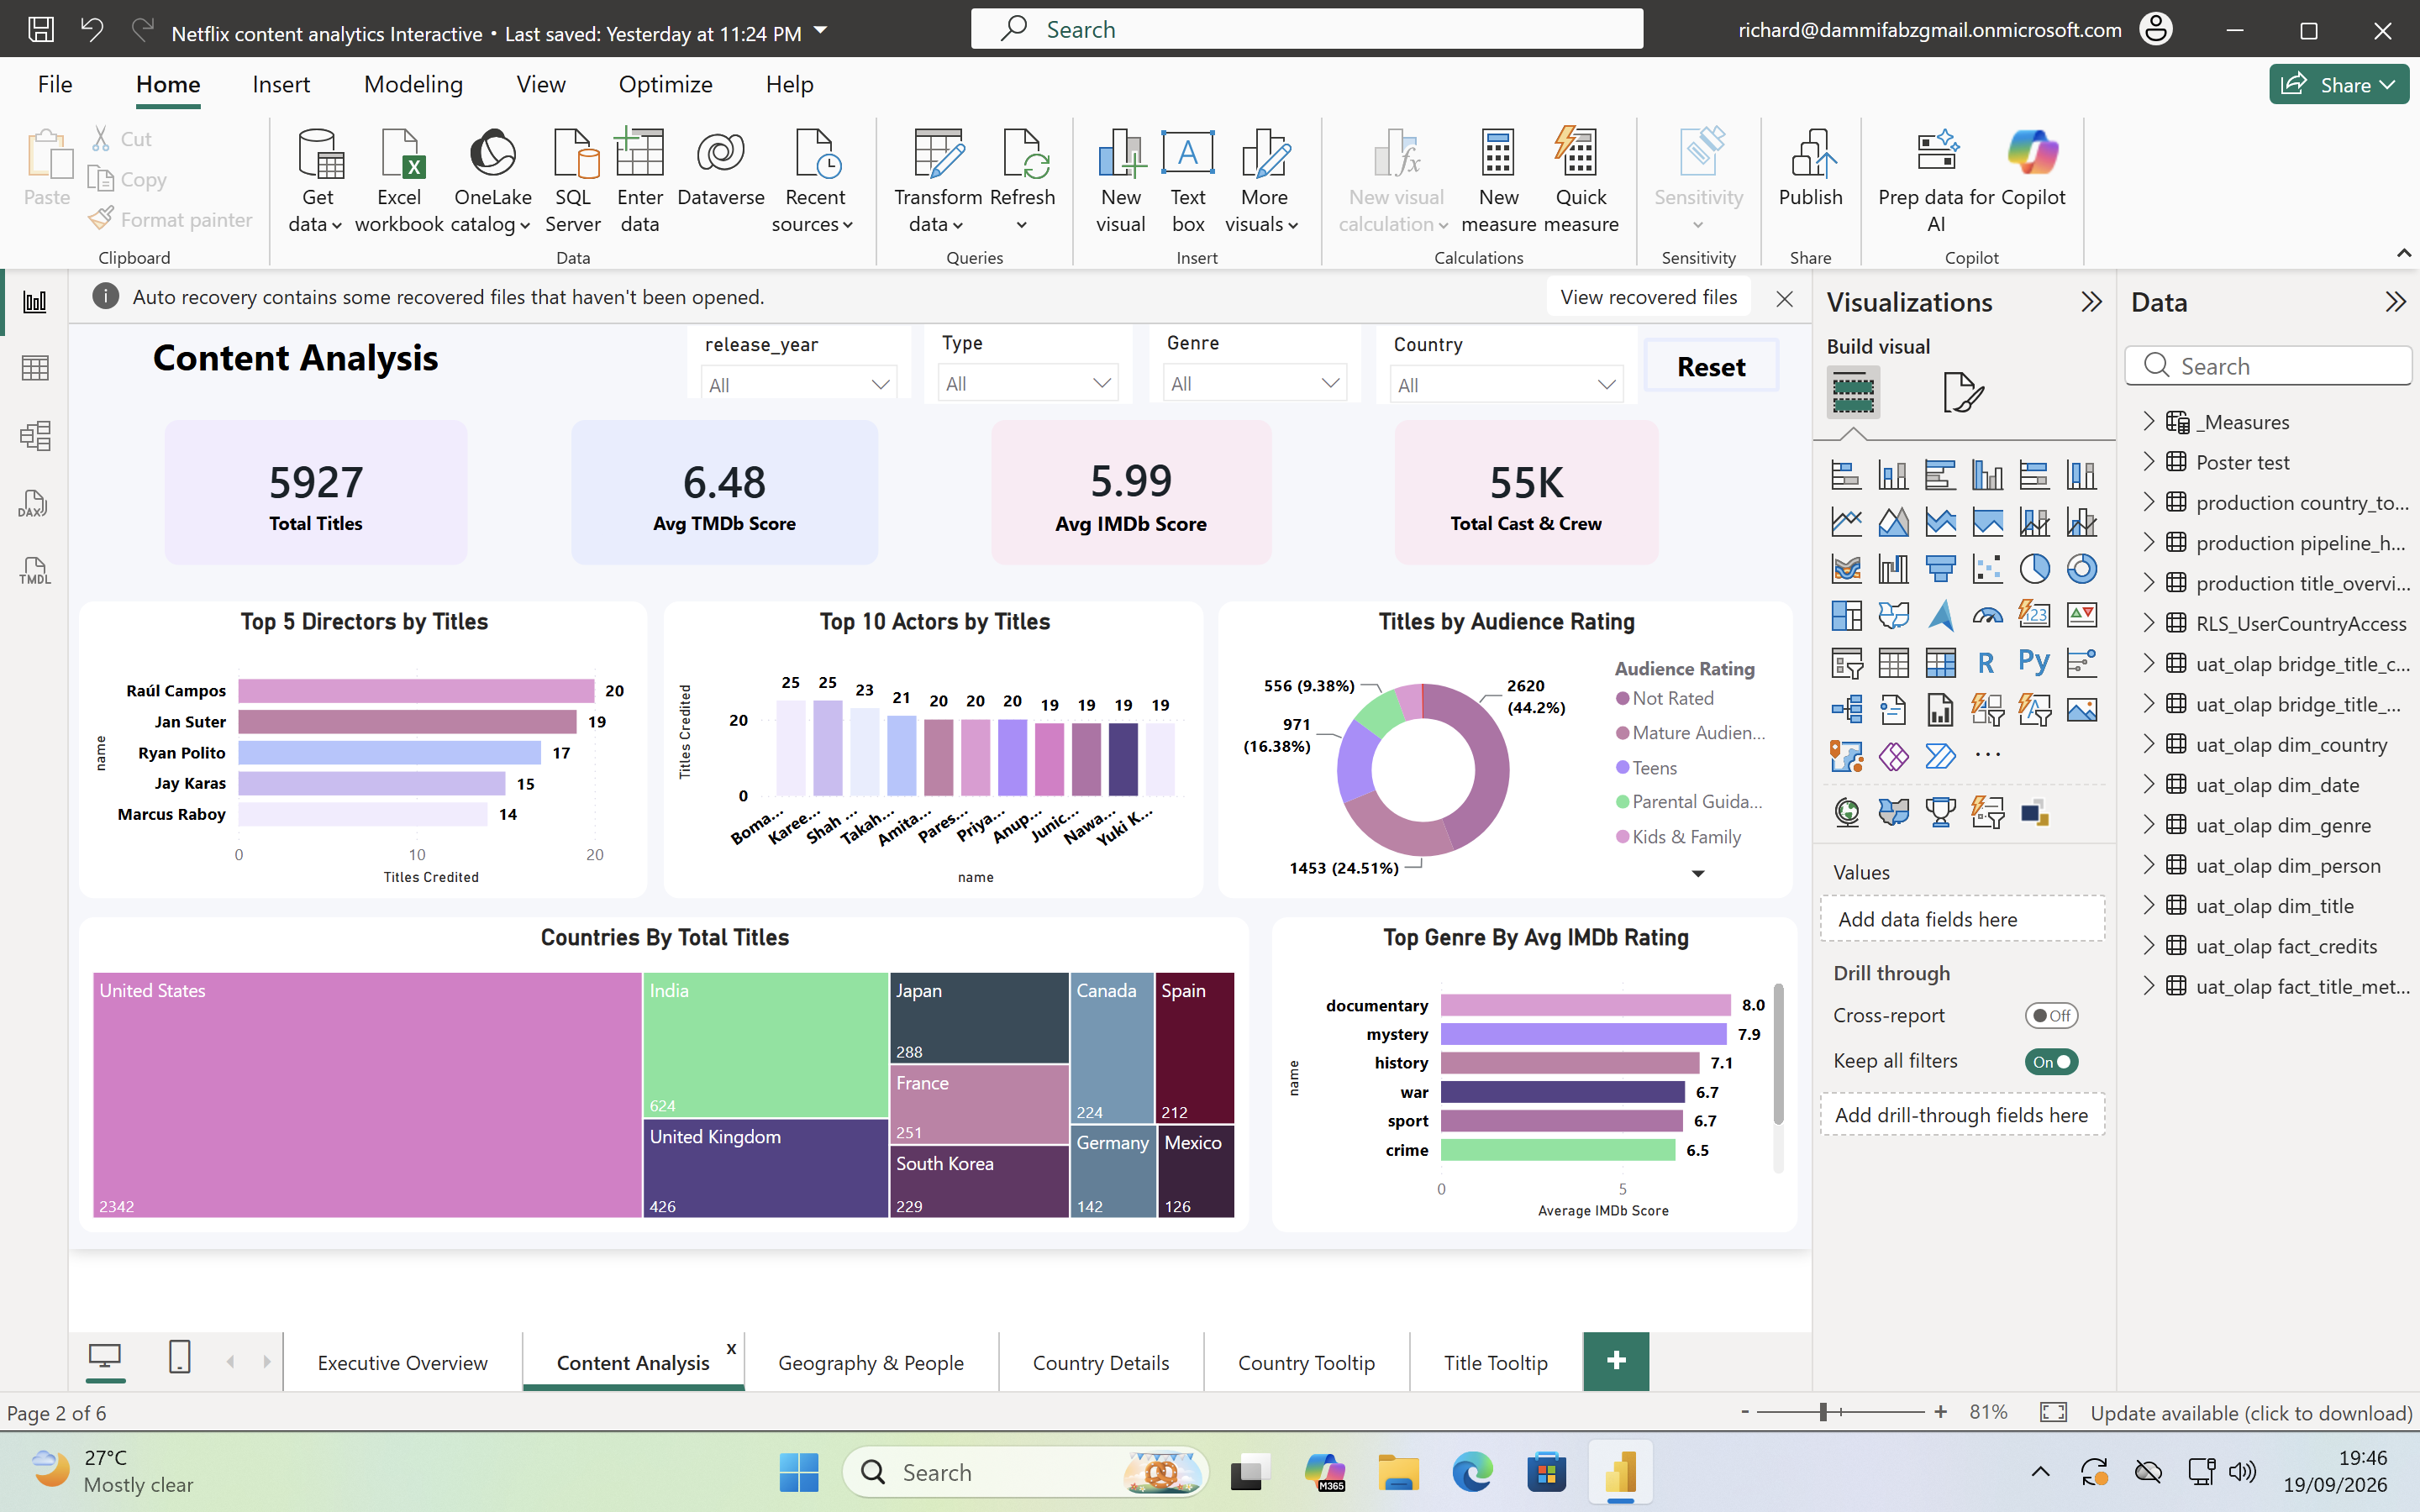

What the dashboard file says about the page in this screenshot:
{"tool":"powerbi","page":{"name":"Content Analysis","canvas":[1280,720],"ordinal":1},"visuals":[{"type":"textbox","box":[57.1,40.6,673.3,56.7],"z":0},{"type":"cardVisual","fields":{"Data":["_Measures.Average IMDb Score"]},"box":[677.6,111.2,205.8,106.7],"z":1000},{"type":"cardVisual","fields":{"Data":["_Measures.Average TMDb Scores"]},"box":[369.6,111.2,225.4,106.7],"z":2000},{"type":"cardVisual","fields":{"Data":["_Measures.Total Titles"]},"box":[70.6,111.2,222.3,106.7],"z":3000},{"type":"slicer","fields":{"Values":["uat_olap dim_title.release_year"]},"box":[453.7,42.1,164.7,52.9],"z":4000},{"type":"slicer","fields":{"Values":["uat_olap dim_title.type"]},"box":[628,40.6,153.2,58.6],"z":5000},{"type":"slicer","title":"hh","fields":{"Values":["uat_olap dim_genre.name"]},"box":[793.2,40.6,155.7,57.4],"z":6000},{"type":"slicer","fields":{"Values":["uat_olap dim_country.name"]},"box":[960,42.1,191.9,57.4],"z":7000},{"type":"actionButton","box":[1156.8,51.1,100,40],"z":8000},{"type":"cardVisual","fields":{"Data":["_Measures.Total Cast & Crew"]},"box":[973.5,111.2,193.8,106.7],"z":9000},{"type":"treemap","title":"Countries By Total Titles","fields":{"Group":["uat_olap dim_country.country_name"],"Values":["_Measures.Titile by Country"]},"box":[7.5,476.2,859.3,231.4],"z":10000},{"type":"clusteredBarChart","title":"Top 5 Directors by Titles","fields":{"Category":["uat_olap dim_person.name"],"Y":["_Measures.Titles Credited"]},"box":[7.5,244.9,417.7,217.8],"z":11000},{"type":"clusteredColumnChart","title":"Top 10 Actors by Titles","fields":{"Category":["uat_olap dim_person.name"],"Y":["_Measures.Titles Credited"]},"box":[437.2,244.9,396.6,217.8],"z":12000},{"type":"donutChart","title":"Titles by Audience Rating","fields":{"Category":["uat_olap dim_title.Audience Rating"],"Y":["_Measures.Total Titles"]},"box":[844.3,244.9,422.2,217.8],"z":13000},{"type":"barChart","title":"Top  Genre By Avg IMDb Rating","fields":{"Category":["uat_olap dim_genre.name"],"Y":["_Measures.Average IMDb Score"]},"box":[883.4,476.2,386.1,231.4],"z":14000}]}

Visuals, with their boxes on the page's 1280x720 design canvas (x1, y1, x2, y2). These are canvas units, not pixel positions in the 2420x1512 screenshot, which may show the page scaled, cropped or inside an application window:
textbox: 57, 41, 730, 97
cardVisual - _Measures.Average IMDb Score: 678, 111, 883, 218
cardVisual - _Measures.Average TMDb Scores: 370, 111, 595, 218
cardVisual - _Measures.Total Titles: 71, 111, 293, 218
slicer - uat_olap dim_title.release_year: 454, 42, 618, 95
slicer - uat_olap dim_title.type: 628, 41, 781, 99
"hh" slicer: 793, 41, 949, 98
slicer - uat_olap dim_country.name: 960, 42, 1152, 100
actionButton: 1157, 51, 1257, 91
cardVisual - _Measures.Total Cast & Crew: 974, 111, 1167, 218
"Countries By Total Titles" treemap: 8, 476, 867, 708
"Top 5 Directors by Titles" clusteredBarChart: 8, 245, 425, 463
"Top 10 Actors by Titles" clusteredColumnChart: 437, 245, 834, 463
"Titles by Audience Rating" donutChart: 844, 245, 1266, 463
"Top  Genre By Avg IMDb Rating" barChart: 883, 476, 1270, 708
